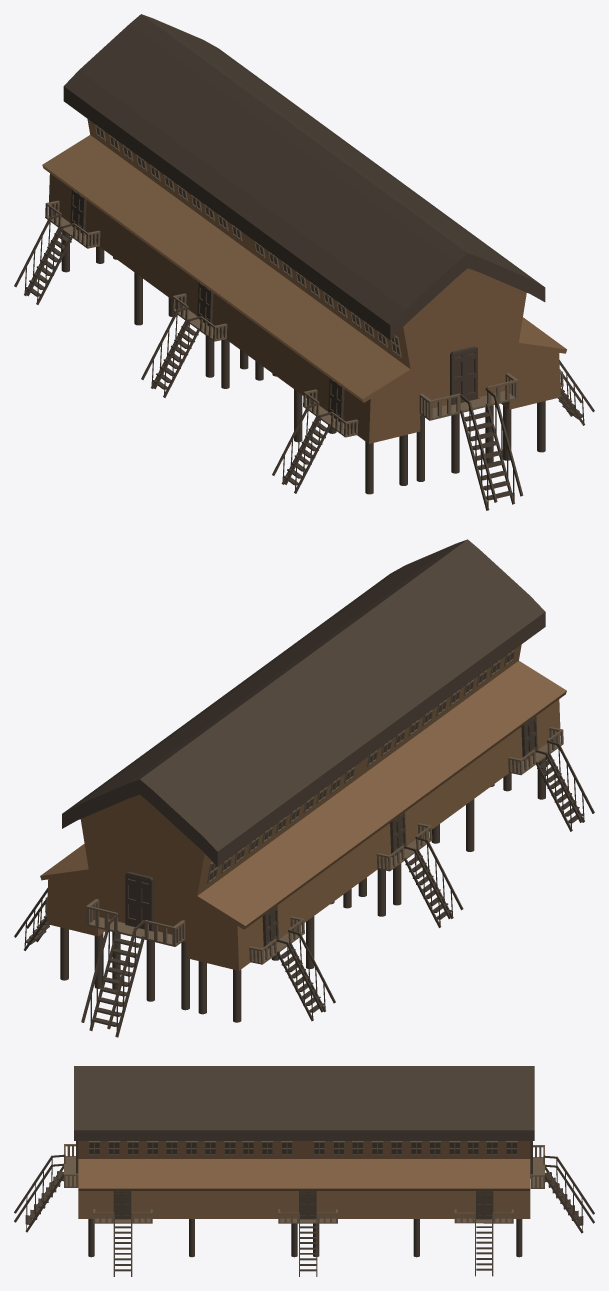
File: Long House.fbx
3 views of the same model, one above another, from view 1: azimuth 30°, elevation 25°; view 2: azimuth 150°, elevation 25°; view 3: azimuth 270°, elevation 25° (orthographic). The views are drawn at different scales.
Visible parts, largest first — view 1: Cube.005, Cube.049, Cube.008, Cube.010, Door Stair, Cube.009, Cube.015, Cube.045, Cube.047, Cube.011; view 2: Cube.049, Cube.005, Cube.010, Cube.008, Door Stair.001, Cube.050, Cube.045, Cube.047, Cube.015, Cube.044; view 3: Cube.049, Cube.005, Cube.009, Cube.050, Door Stair.001, Door Stair, Cube.011, Cube.044, Cube.013.
Part boxes in pixels (<box>): Cube.005: <box>223,136,545,415</box>; Cube.049: <box>63,14,383,251</box>; Cube.008: <box>202,253,420,443</box>; Cube.010: <box>42,135,250,315</box>; Door Stair: <box>419,346,523,510</box>; Cube.009: <box>501,317,566,409</box>; Cube.015: <box>272,378,358,493</box>; Cube.045: <box>141,282,227,397</box>; Cube.047: <box>14,189,100,304</box>; Cube.011: <box>557,360,594,425</box>; Cube.049: <box>62,656,384,942</box>; Cube.005: <box>232,539,545,778</box>; Cube.010: <box>187,778,406,970</box>; Cube.008: <box>359,661,566,845</box>; Door Stair.001: <box>81,871,185,1037</box>; Cube.050: <box>40,843,105,936</box>; Cube.045: <box>376,812,463,927</box>; Cube.047: <box>249,905,335,1021</box>; Cube.015: <box>508,716,594,831</box>; Cube.044: <box>14,888,49,950</box>; Cube.049: <box>299,1066,534,1158</box>; Cube.005: <box>74,1066,309,1158</box>; Cube.009: <box>78,1159,305,1218</box>; Cube.050: <box>303,1159,530,1218</box>; Door Stair.001: <box>530,1141,594,1233</box>; Door Stair: <box>14,1141,78,1232</box>; Cube.011: <box>93,1191,152,1276</box>; Cube.044: <box>454,1191,513,1276</box>; Cube.013: <box>278,1191,337,1276</box>.
Bounding box in the file's own units: 15055 × 10668 × 34652.
